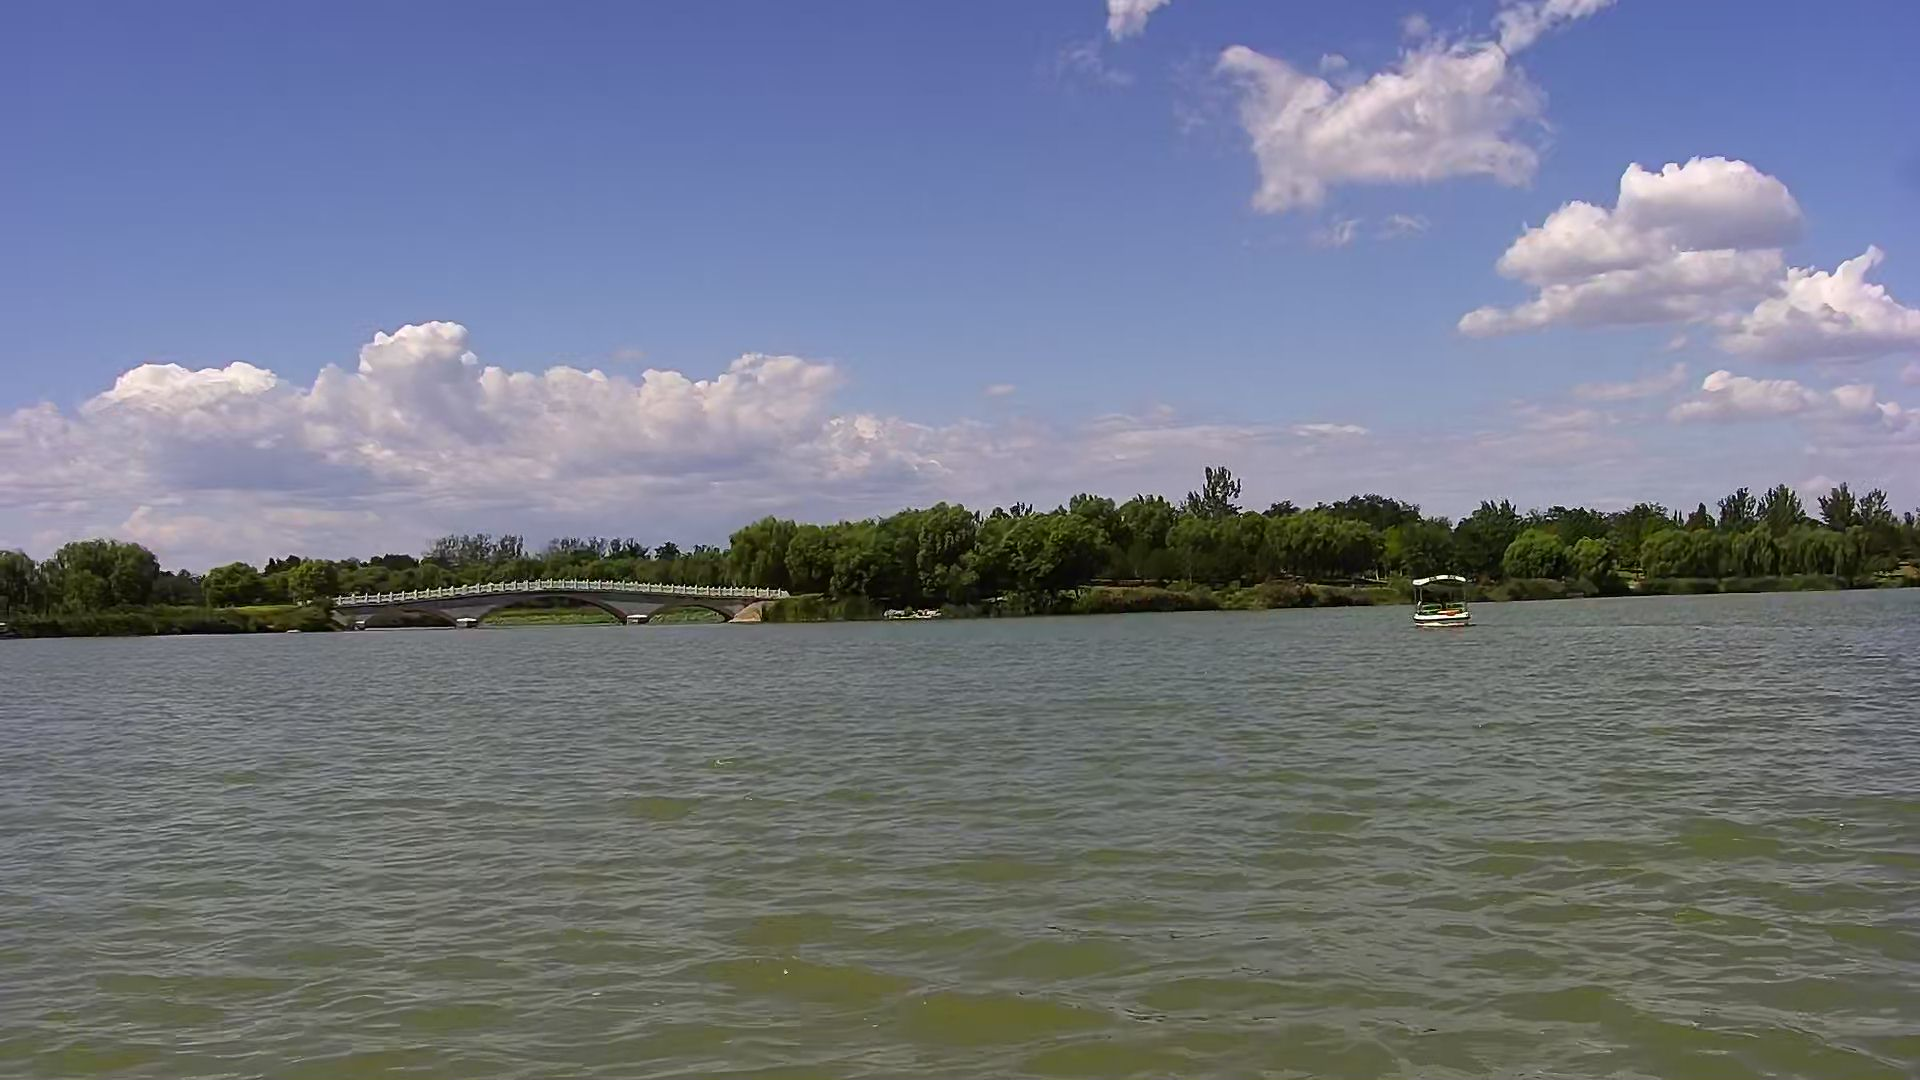boat: (1404, 572, 1486, 637)
bridge: (338, 579, 786, 637)
